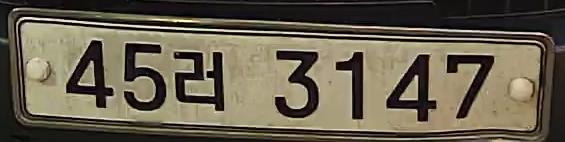1: (330, 45, 378, 125)
3: (270, 45, 325, 123)
4: (379, 50, 443, 127), (62, 35, 119, 113)
5: (119, 40, 171, 112)
7: (441, 50, 500, 124)
러: (170, 43, 232, 115)
